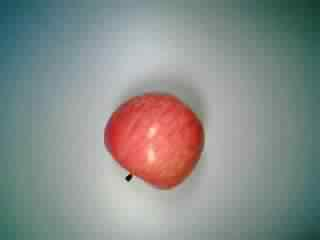apple: (103, 92, 207, 192)
